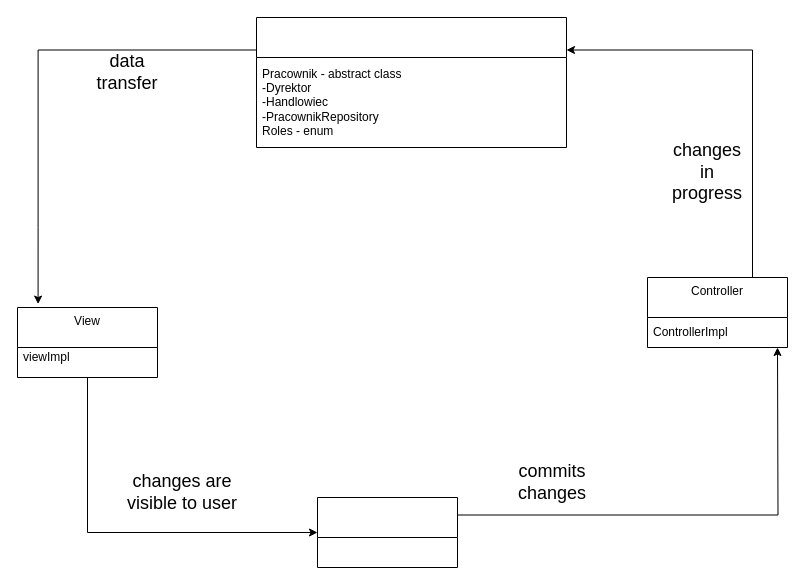
The diagram is 805 pixels wide and 585 high, and some of its shapes have lost their labels. Here are the shapes that lost their labels. From the top down, the box of each, then its label:
(256, 16, 566, 148): Model
(316, 496, 458, 568): main clas
